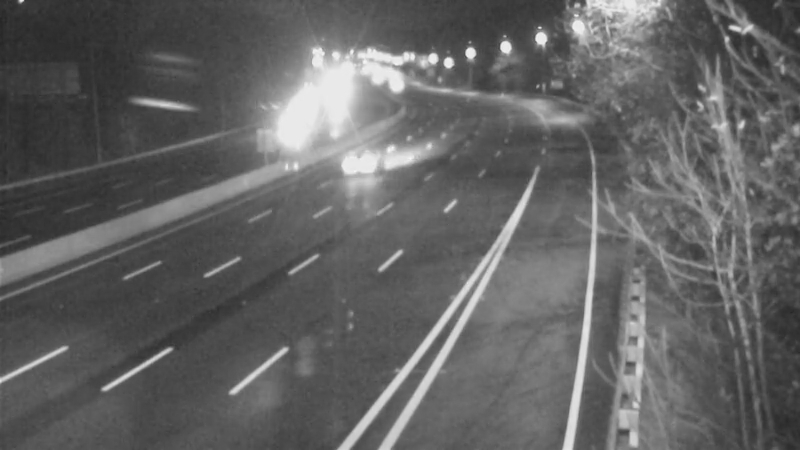vehicle: (323, 122, 403, 202)
